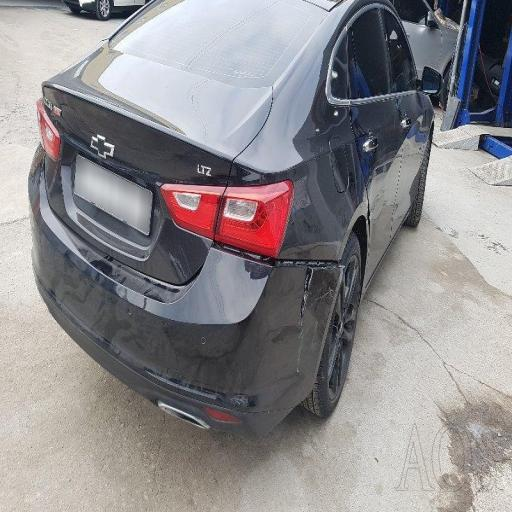broken: (200, 197, 368, 375)
